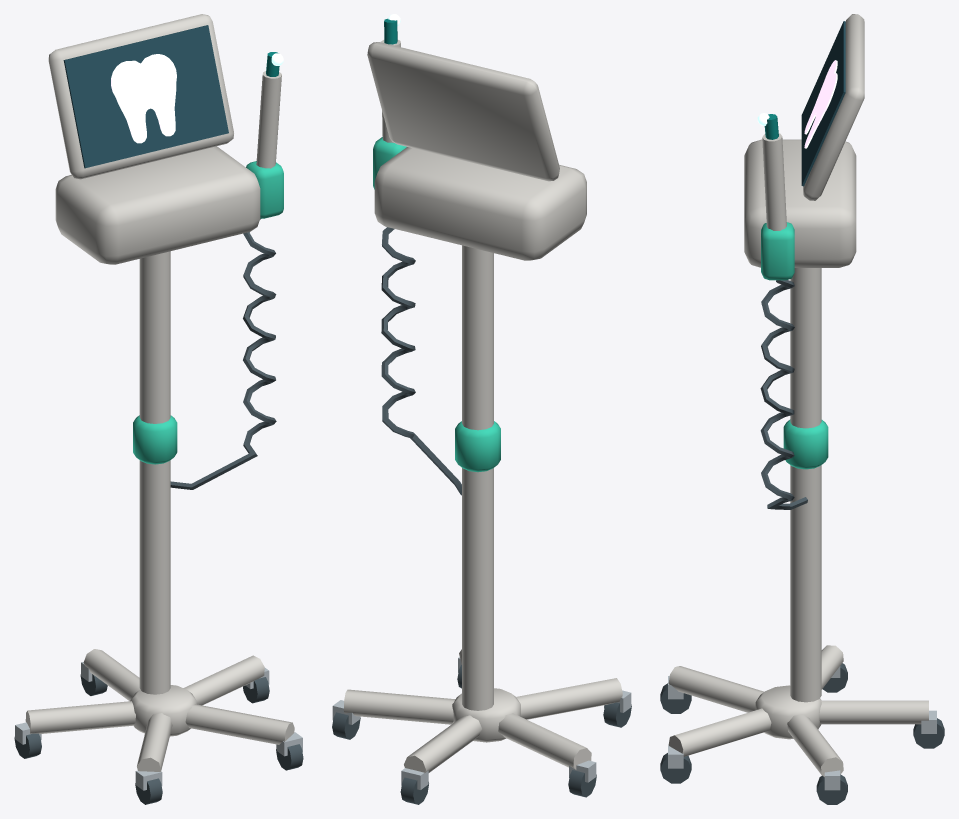
File: intraoral_cam.glb
The picture shows the model from 3 angles, left to right: view 1: azimuth 30°, elevation 25°; view 2: azimuth 150°, elevation 25°; view 3: azimuth 270°, elevation 25°; orthographic projection. The views are drawn at different scales.
Parts seen in each view (by area): view 1: IntraoralCam; view 2: IntraoralCam; view 3: IntraoralCam.
Part boxes in pixels (<box>): IntraoralCam: <box>14,14,303,804</box>; IntraoralCam: <box>332,14,631,804</box>; IntraoralCam: <box>660,14,944,804</box>.
Size of the model in its own units: 0.5147 by 1.37 by 0.5083.
